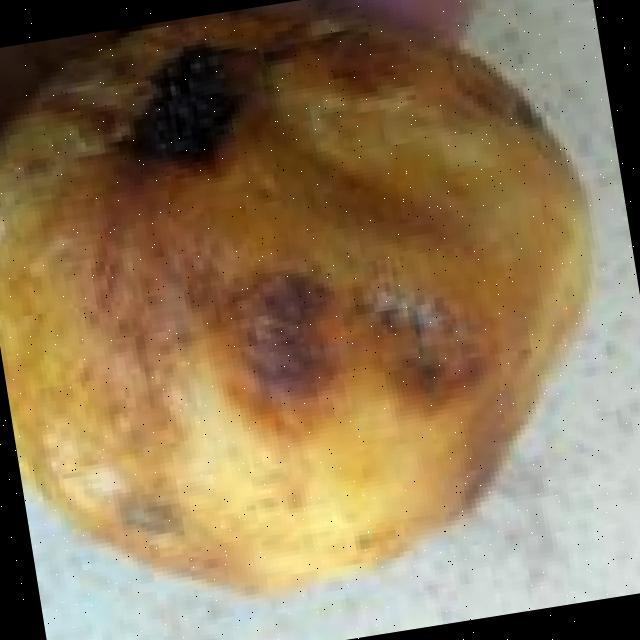Bad_Guava 0 day: (0, 15, 585, 593)
